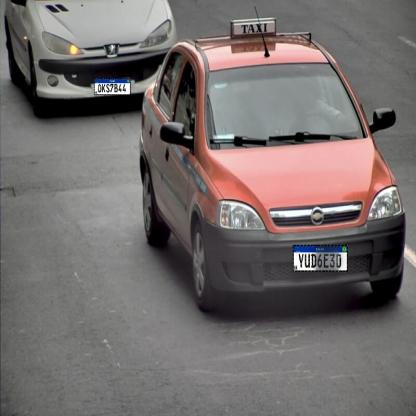PlacaM: (293, 245, 348, 272), (94, 78, 131, 95)
